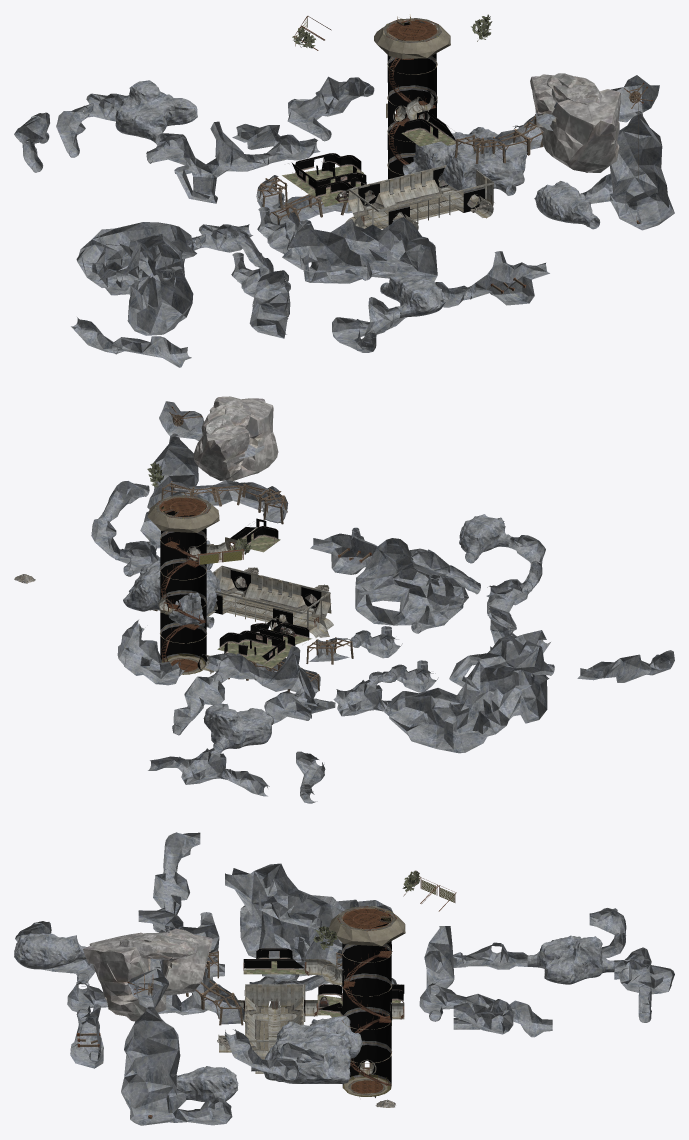
The model's file is cave_large_sewers_hard-map.glb.
3 renders of one model, top to bottom at view 1: azimuth 30°, elevation 25°; view 2: azimuth 150°, elevation 25°; view 3: azimuth 270°, elevation 25°, orthographic. The views are drawn at different scales.
Parts seen in each view (by area): view 1: cave_slope_600, sewer_chimney, rock_formation_huge_a_LOD0, sewer_tunnel_bend_600x600, large_vent_LOD0, beam_puzzle_b_LOD0, bunker.room.15.aa, sewer_chimney_top_LOD0, rock_formation_huge_e_LOD0, sewer_chimney_branch_LOD0, stairs_sewer_chimney (2), LOD0; view 2: cave_slope_600, sewer_chimney, rock_formation_huge_a_LOD0, sewer_tunnel_bend_600x600, large_vent_LOD0, beam_puzzle_b_LOD0, sewer_chimney_top_LOD0, bunker.room.15.aa, rock_formation_huge_e_LOD0, stairs_sewer_chimney (2), sewer_chimney_branch_LOD0; view 3: cave_slope_600, sewer_chimney, rock_formation_huge_a_LOD0, sewer_tunnel_bend_600x600, large_vent_LOD0, sewer_chimney_top_LOD0, rock_formation_huge_e_LOD0, beam_puzzle_b_LOD0, bunker.room.15.aa, stairs_sewer_chimney (2), LOD0.
Part boxes in pixels (left/top/right/bottom): cave_slope_600: left=14, top=75, right=674, bottom=367; sewer_chimney: left=292, top=20, right=484, bottom=225; rock_formation_huge_a_LOD0: left=530, top=74, right=620, bottom=172; sewer_tunnel_bend_600x600: left=345, top=92, right=494, bottom=230; large_vent_LOD0: left=275, top=16, right=652, bottom=228; beam_puzzle_b_LOD0: left=257, top=84, right=653, bottom=293; bunker.room.15.aa: left=282, top=113, right=455, bottom=206; sewer_chimney_top_LOD0: left=353, top=18, right=487, bottom=226; rock_formation_huge_e_LOD0: left=547, top=73, right=601, bottom=104; sewer_chimney_branch_LOD0: left=361, top=95, right=492, bottom=227; stairs_sewer_chimney (2): left=361, top=57, right=477, bottom=224; LOD0: left=292, top=14, right=492, bottom=48; cave_slope_600: left=91, top=401, right=674, bottom=803; sewer_chimney: left=160, top=497, right=321, bottom=669; rock_formation_huge_a_LOD0: left=193, top=396, right=278, bottom=480; sewer_tunnel_bend_600x600: left=158, top=541, right=333, bottom=672; large_vent_LOD0: left=147, top=406, right=325, bottom=674; beam_puzzle_b_LOD0: left=150, top=406, right=369, bottom=691; sewer_chimney_top_LOD0: left=155, top=495, right=326, bottom=674; bunker.room.15.aa: left=217, top=519, right=311, bottom=668; rock_formation_huge_e_LOD0: left=201, top=399, right=251, bottom=436; stairs_sewer_chimney (2): left=161, top=537, right=318, bottom=671; sewer_chimney_branch_LOD0: left=165, top=539, right=328, bottom=668; cave_slope_600: left=14, top=832, right=674, bottom=1125; sewer_chimney: left=243, top=908, right=404, bottom=1087; rock_formation_huge_a_LOD0: left=83, top=929, right=212, bottom=1021; sewer_tunnel_bend_600x600: left=217, top=959, right=404, bottom=1080; large_vent_LOD0: left=127, top=877, right=456, bottom=1116; sewer_chimney_top_LOD0: left=247, top=906, right=396, bottom=1096; rock_formation_huge_e_LOD0: left=119, top=932, right=198, bottom=959; beam_puzzle_b_LOD0: left=77, top=950, right=342, bottom=1118; bunker.room.15.aa: left=243, top=948, right=403, bottom=1025; stairs_sewer_chimney (2): left=244, top=946, right=403, bottom=1085; LOD0: left=313, top=870, right=420, bottom=949.
Bounding box in the file's own units: 167 × 55.15 × 160.
Materials: 27 (27 with a texture image).
